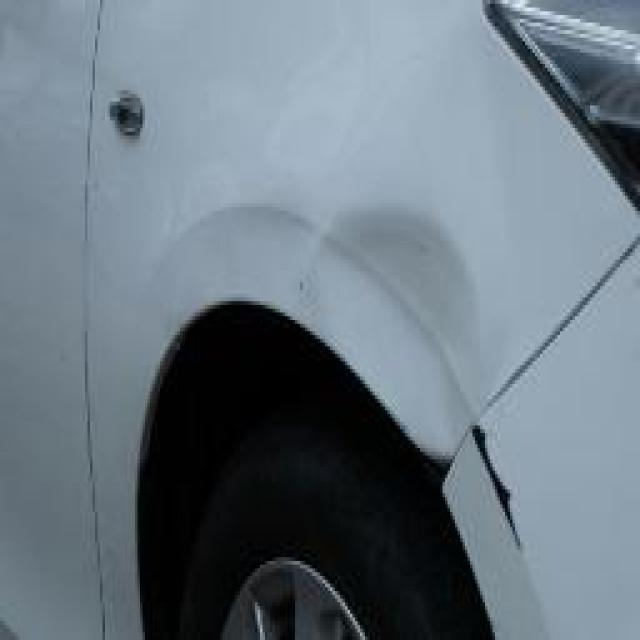Bumper: (448, 418, 590, 568)
Fender: (302, 147, 490, 452)
